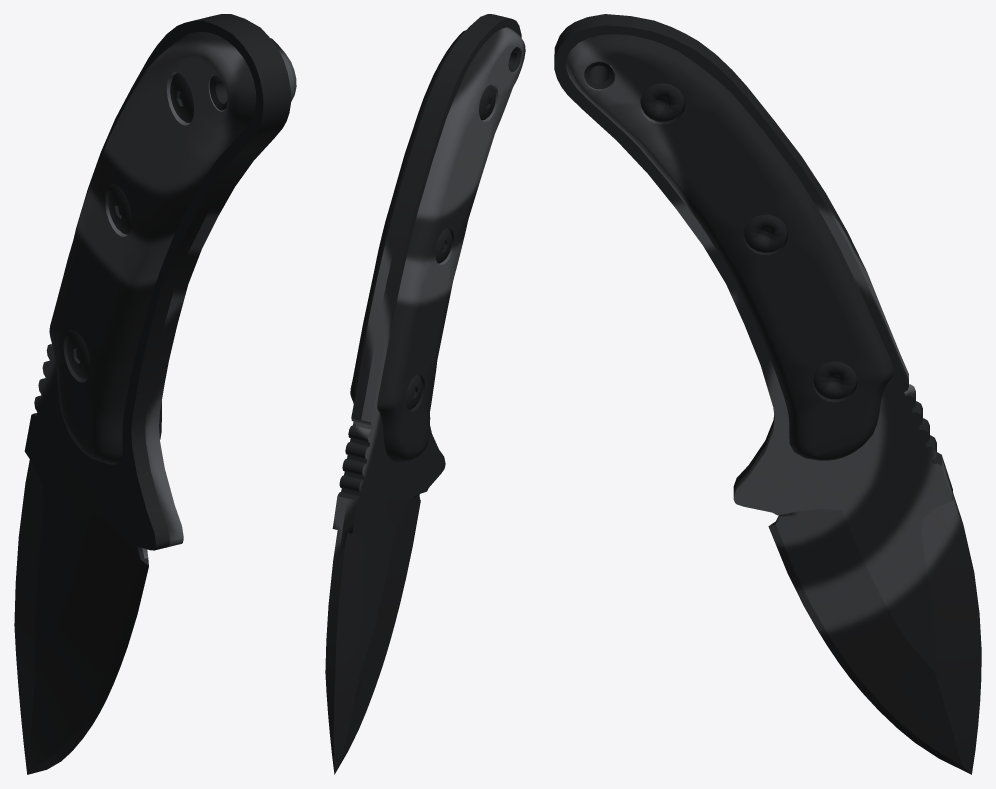
File: scorpion.glb
The picture shows the model from 3 angles, left to right: view 1: azimuth 30°, elevation 25°; view 2: azimuth 150°, elevation 25°; view 3: azimuth 270°, elevation 25°; orthographic projection. The views are drawn at different scales.
Visible parts, largest first — view 1: Scorpion_Knife; view 2: Scorpion_Knife; view 3: Scorpion_Knife.
Boxes of the visible parts, box(x1,y1,x2,y2) form: Scorpion_Knife: box(14, 14, 296, 774); Scorpion_Knife: box(325, 14, 525, 774); Scorpion_Knife: box(554, 14, 981, 774).
Size of the model in its own units: 0.0206 by 0.2782 by 0.1426.
Materials: 1 (1 with a texture image).
